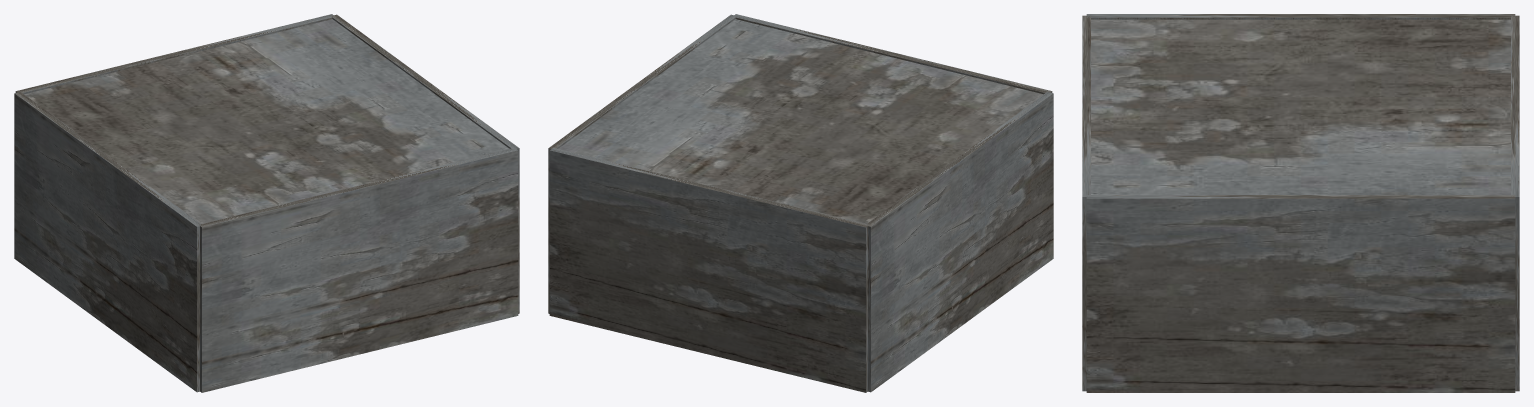
The model's file is room.fbx.
The picture shows the model from 3 angles, left to right: view 1: azimuth 30°, elevation 25°; view 2: azimuth 150°, elevation 25°; view 3: azimuth 270°, elevation 25°; orthographic projection. The views are drawn at different scales.
Parts seen in each view (by area): view 1: Cube.007, Cube.005; view 2: Cube.007, Cube.005; view 3: Cube.007, Cube.005.
Part boxes in pixels (x1,y1,x2,y2): Cube.007: [14, 14, 519, 392]; Cube.005: [25, 19, 509, 223]; Cube.007: [548, 14, 1053, 392]; Cube.005: [558, 19, 1042, 223]; Cube.007: [1082, 14, 1519, 392]; Cube.005: [1091, 19, 1510, 194].
Bounding box in the file's own units: 2040 × 1000 × 2040.
